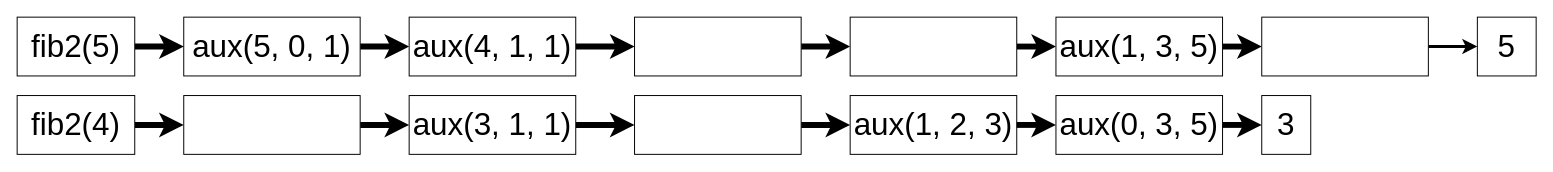
The diagram is 1553 pixels wide and 172 high, and some of its shapes have lost their labels. Here are the shapes that lost their labels. From the top down, the centre of each, then its label:
the point at 717,46: aux(3, 1, 2)
the point at 933,46: aux(2, 2, 3)
the point at 1344,46: aux(0, 5, 8)
the point at 271,124: aux(4, 0, 1)
the point at 717,124: aux(2, 1, 2)
